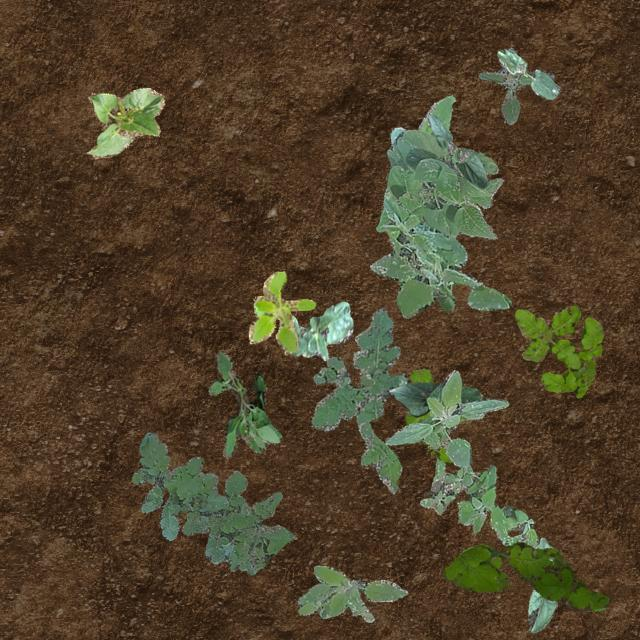crop: (376, 128, 502, 238), (85, 86, 163, 158), (424, 114, 488, 188), (288, 300, 352, 360), (496, 48, 560, 98), (388, 382, 481, 416), (526, 536, 556, 632)
weed: (130, 432, 294, 574), (310, 308, 406, 492), (368, 198, 511, 318), (384, 369, 508, 466), (442, 540, 608, 610), (418, 457, 538, 547), (382, 95, 458, 202), (514, 304, 602, 396), (208, 350, 282, 458), (296, 564, 406, 622), (404, 368, 470, 462), (478, 46, 552, 124), (248, 270, 314, 352)
